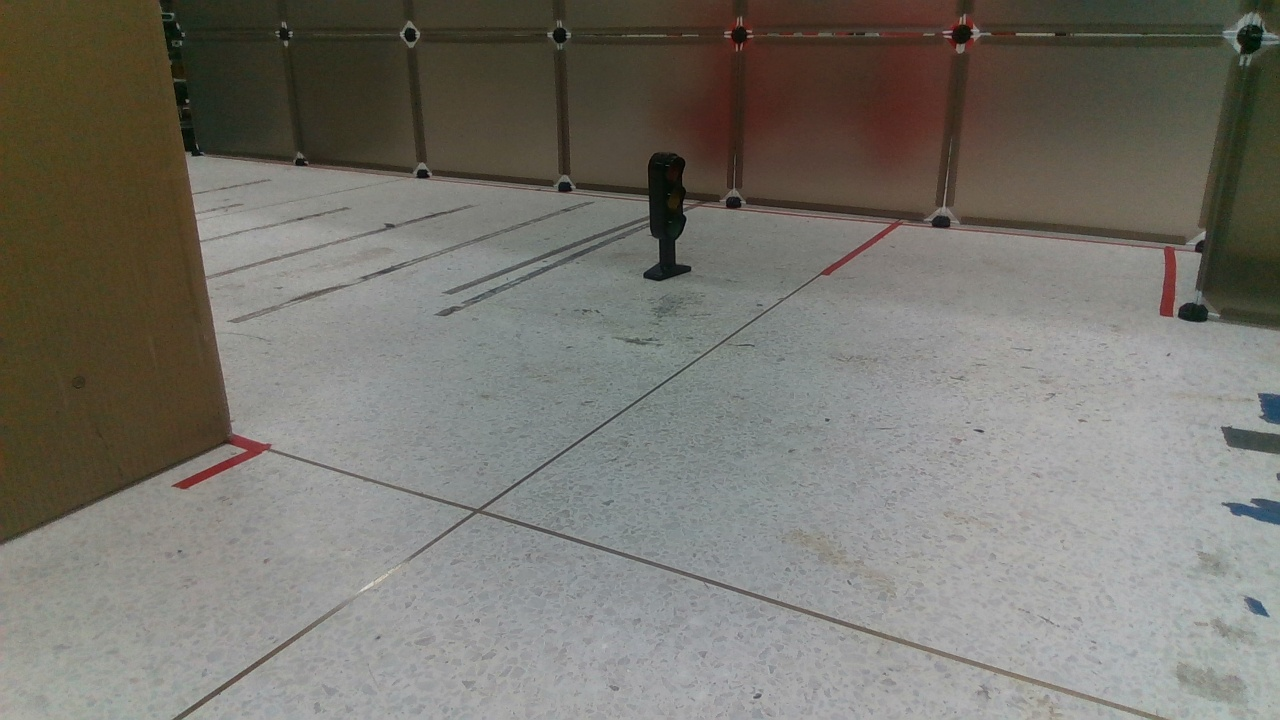Dim traffic light: (634, 155, 696, 281)
